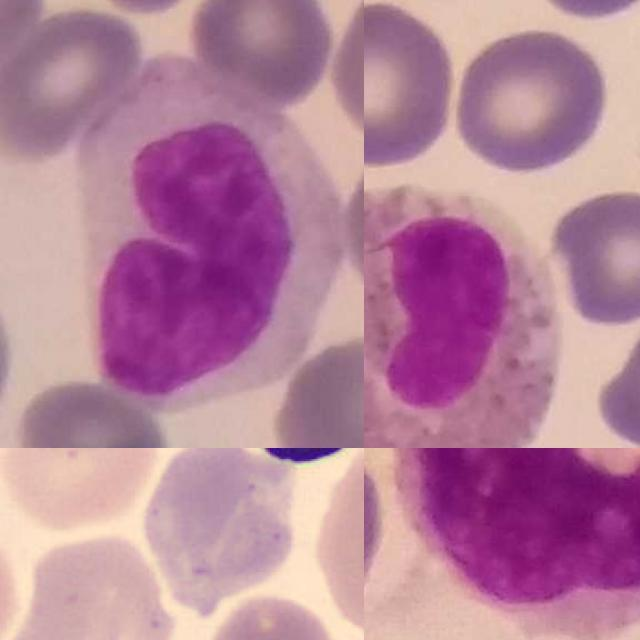Eosinophil: (364, 178, 566, 448)
Monocyte: (79, 53, 347, 410), (394, 448, 640, 640)
RBC: (135, 448, 304, 616), (5, 524, 183, 640), (0, 448, 161, 531), (296, 448, 364, 640), (202, 588, 339, 640), (0, 512, 30, 640)
